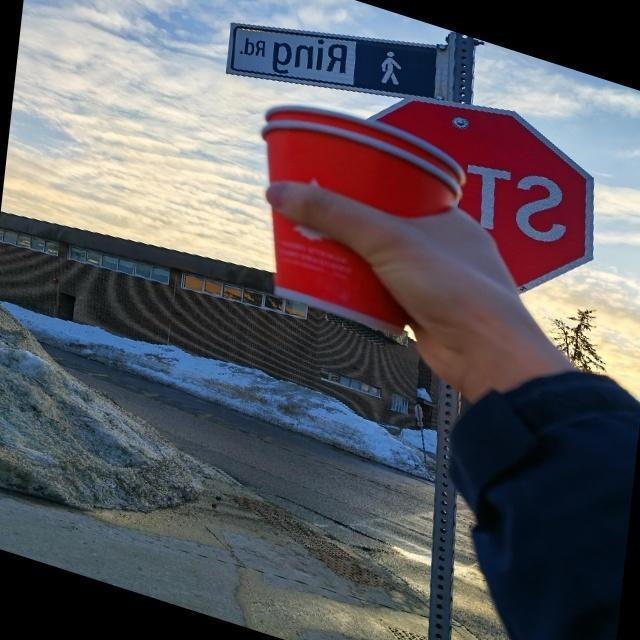timmies: (254, 123, 470, 319)
